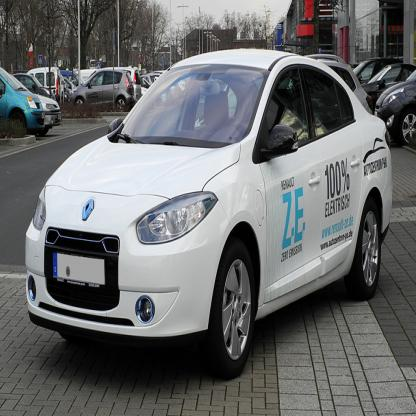Car: (36, 43, 393, 374), (1, 65, 191, 141), (308, 58, 416, 148)
